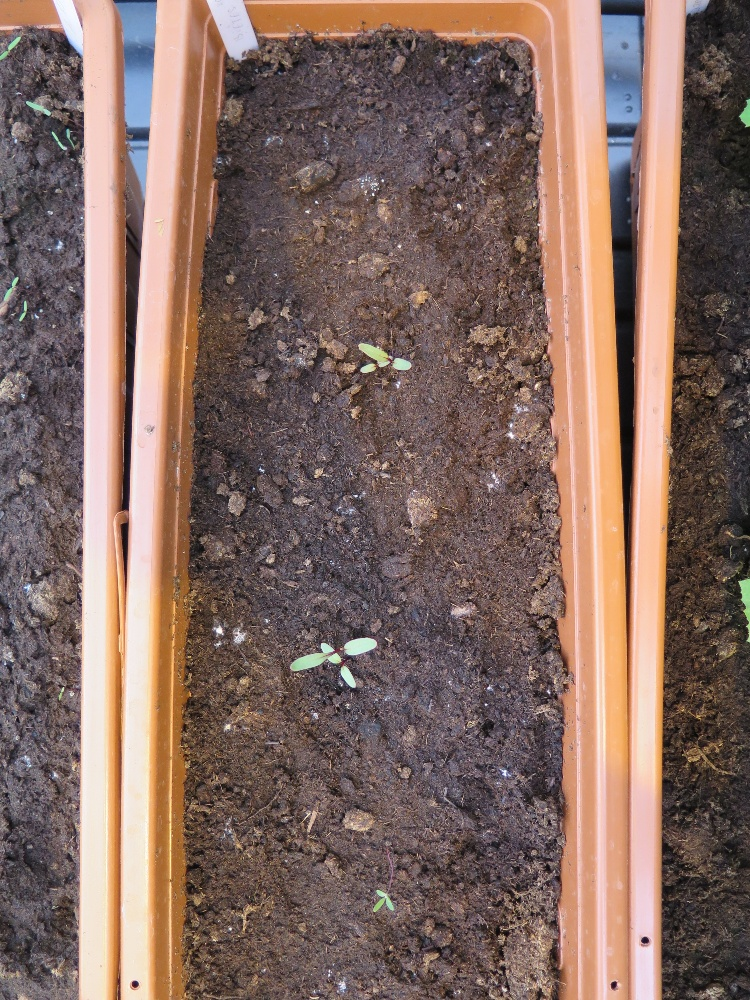crop: (290, 636, 378, 671), (319, 641, 361, 690), (356, 339, 410, 371), (359, 356, 392, 375)
weed: (372, 888, 394, 914)
